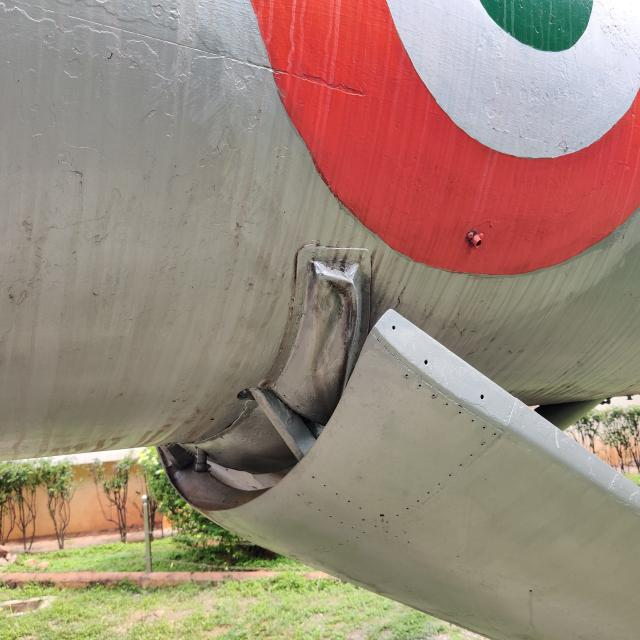dent: (292, 250, 373, 405)
